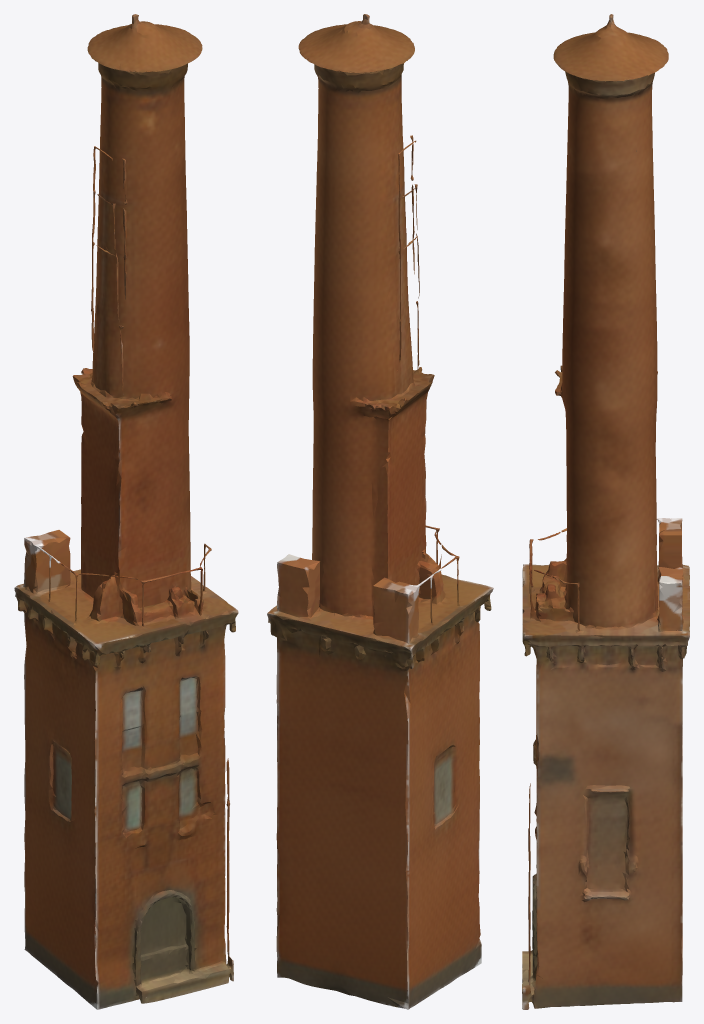
Rendered from revolution_chimney.glb.
3 renders of one model, left to right at view 1: azimuth 30°, elevation 25°; view 2: azimuth 150°, elevation 25°; view 3: azimuth 270°, elevation 25°, orthographic. The views are drawn at different scales.
Parts seen in each view (by area): view 1: revolution_chimney; view 2: revolution_chimney; view 3: revolution_chimney.
Boxes of the visible parts, box(x1,y1,x2,y2) form: revolution_chimney: box(14, 14, 238, 1009); revolution_chimney: box(267, 14, 493, 1009); revolution_chimney: box(522, 14, 689, 1009).
Bounding box in the file's own units: 0.3006 × 1.9 × 0.2986.
1 material, 1 textured.
